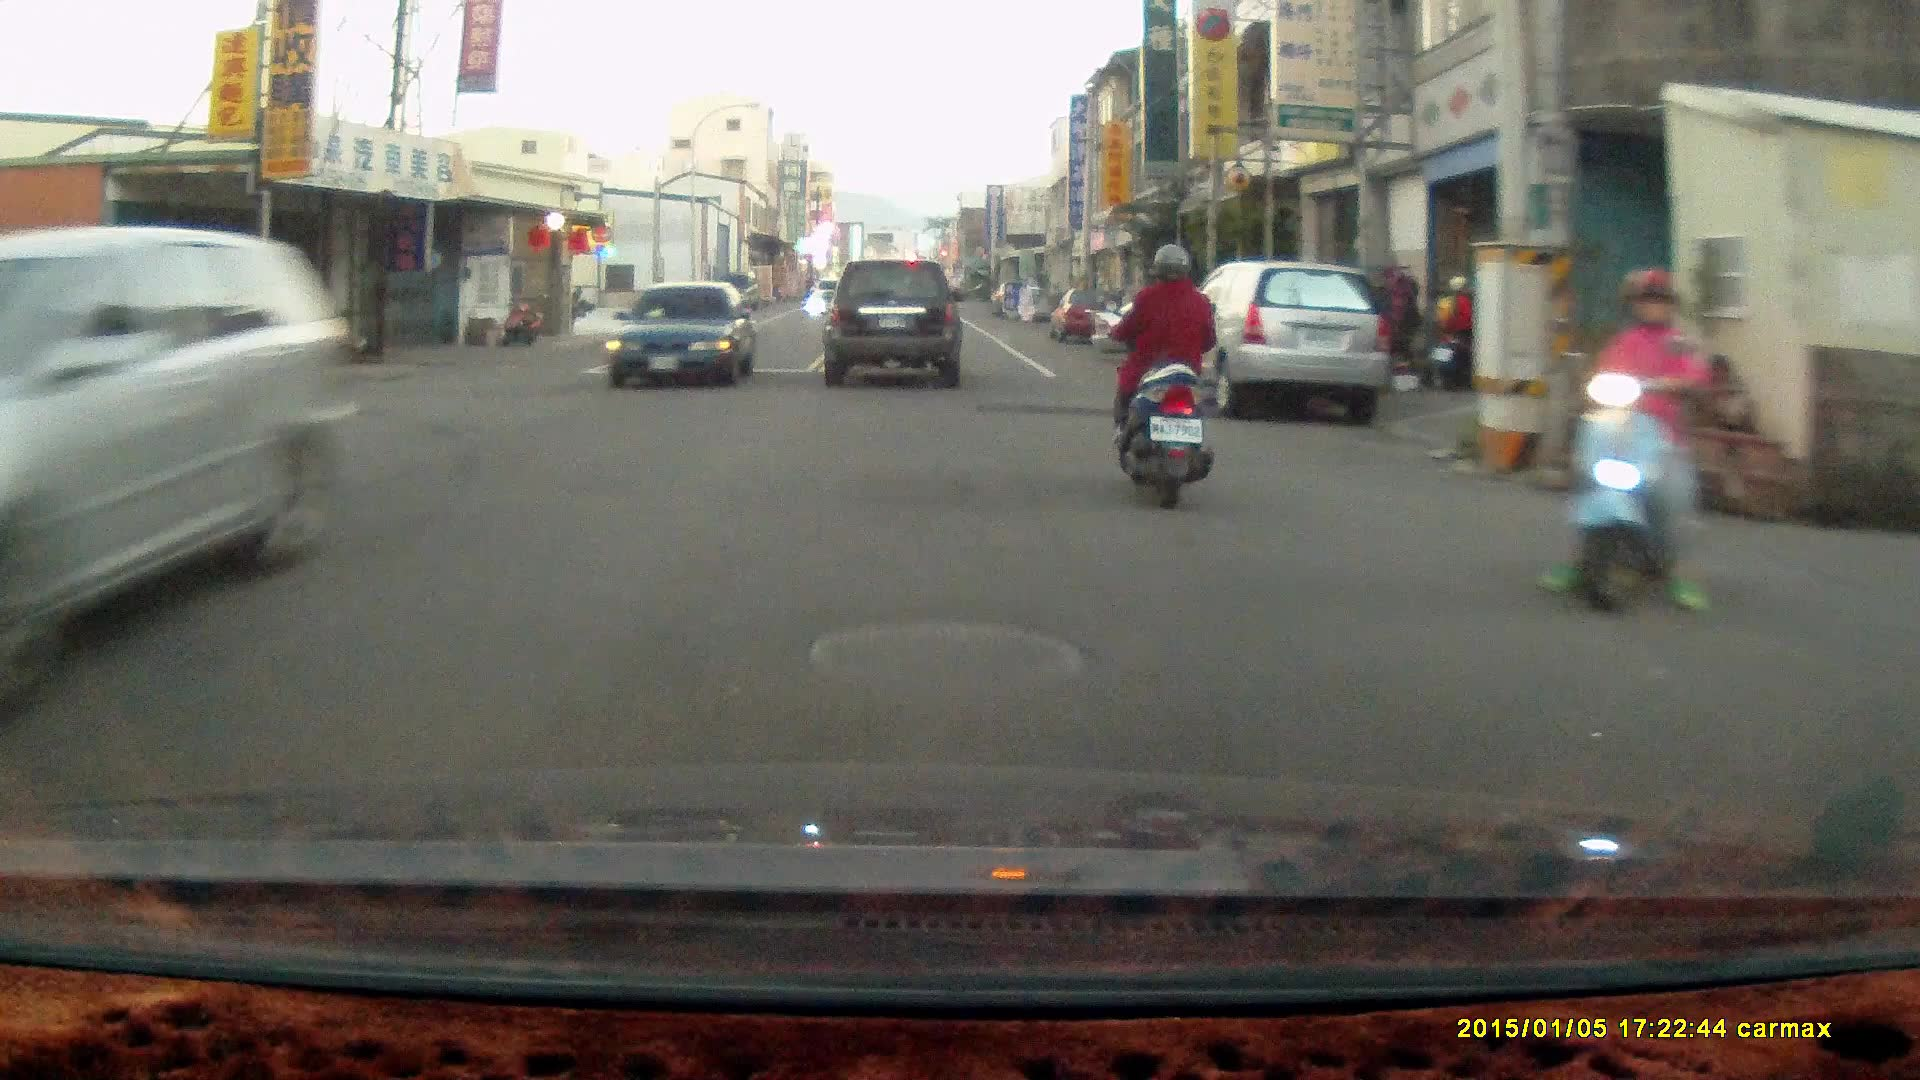rider: (1542, 268, 1722, 622), (1109, 239, 1216, 509), (1433, 268, 1479, 388)
vehicle: (1, 225, 360, 700), (1163, 260, 1389, 421), (824, 258, 966, 392), (611, 279, 759, 393)
